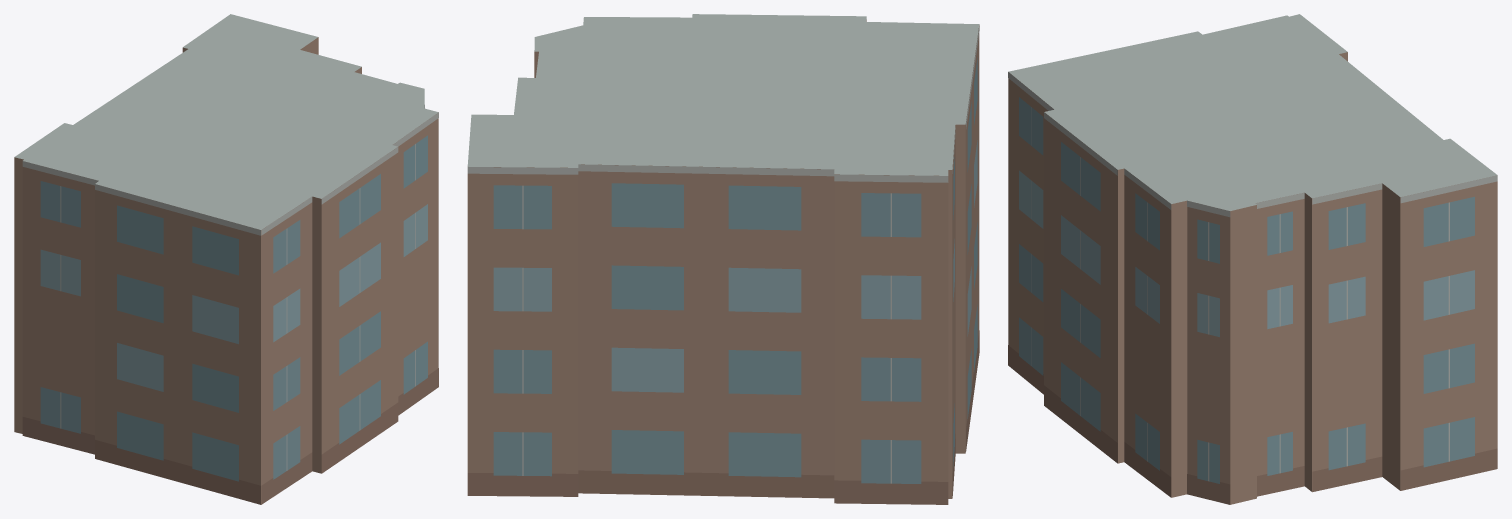
Rendered from survey-upis-32738003.glb.
3 renders of one model, left to right at view 1: azimuth 30°, elevation 25°; view 2: azimuth 150°, elevation 25°; view 3: azimuth 270°, elevation 25°, orthographic. The views are drawn at different scales.
Parts seen in each view (by area): view 1: survey-upis-32738003.tmp; view 2: survey-upis-32738003.tmp; view 3: survey-upis-32738003.tmp.
Boxes of the visible parts, x1,y1,x2,y2 form: survey-upis-32738003.tmp: (14, 14, 438, 504); survey-upis-32738003.tmp: (467, 14, 979, 504); survey-upis-32738003.tmp: (1008, 14, 1497, 504).
Bounding box in the file's own units: 16.71 × 11.6 × 17.53.
